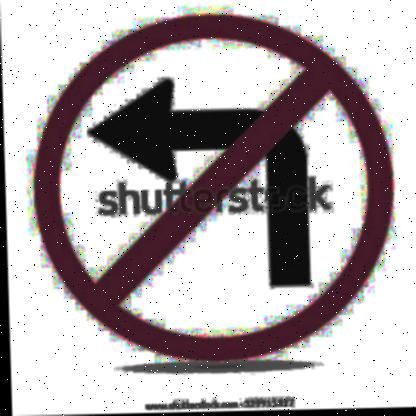No left turn: (30, 7, 403, 366)
